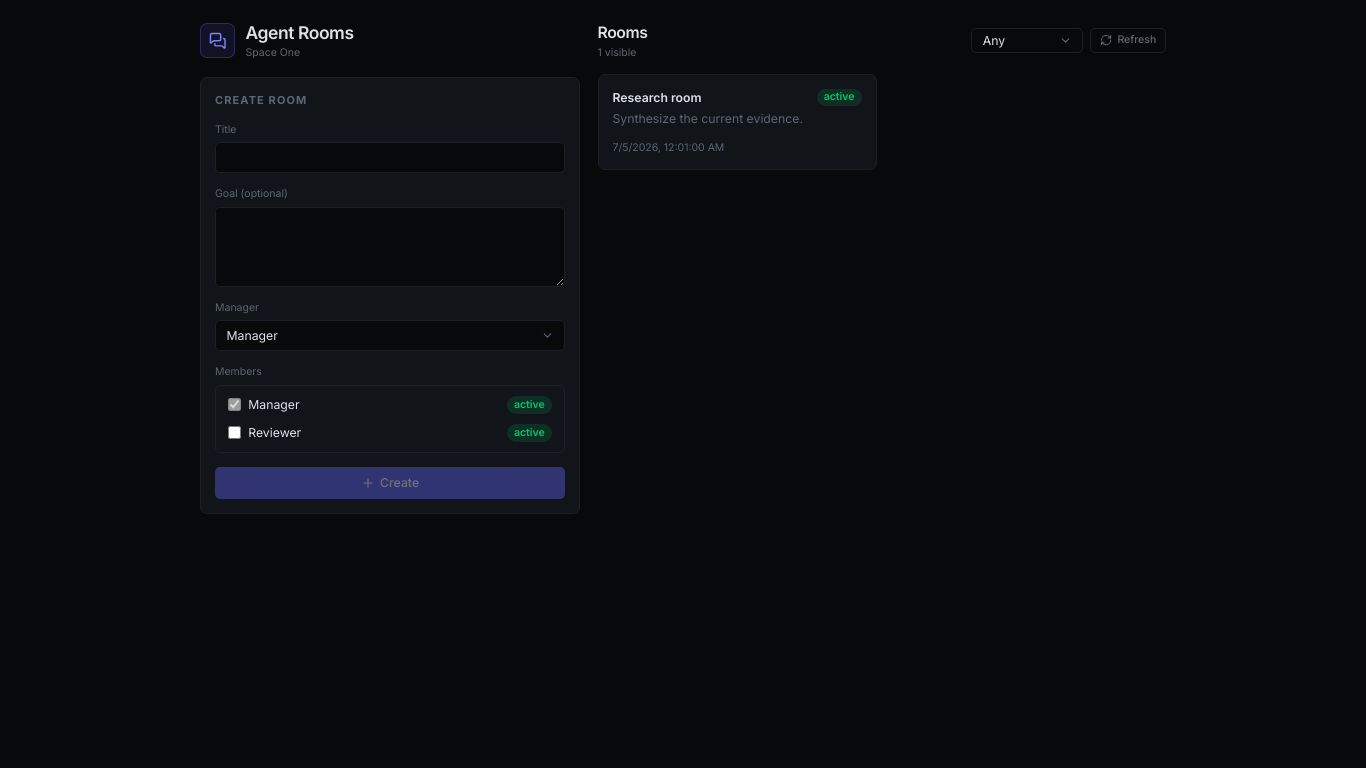
AgentGroupsPage › renders markdown in agent chat replies
Click the button "Research room" at (737, 122), box x1=598 y1=74 x2=876 y2=170
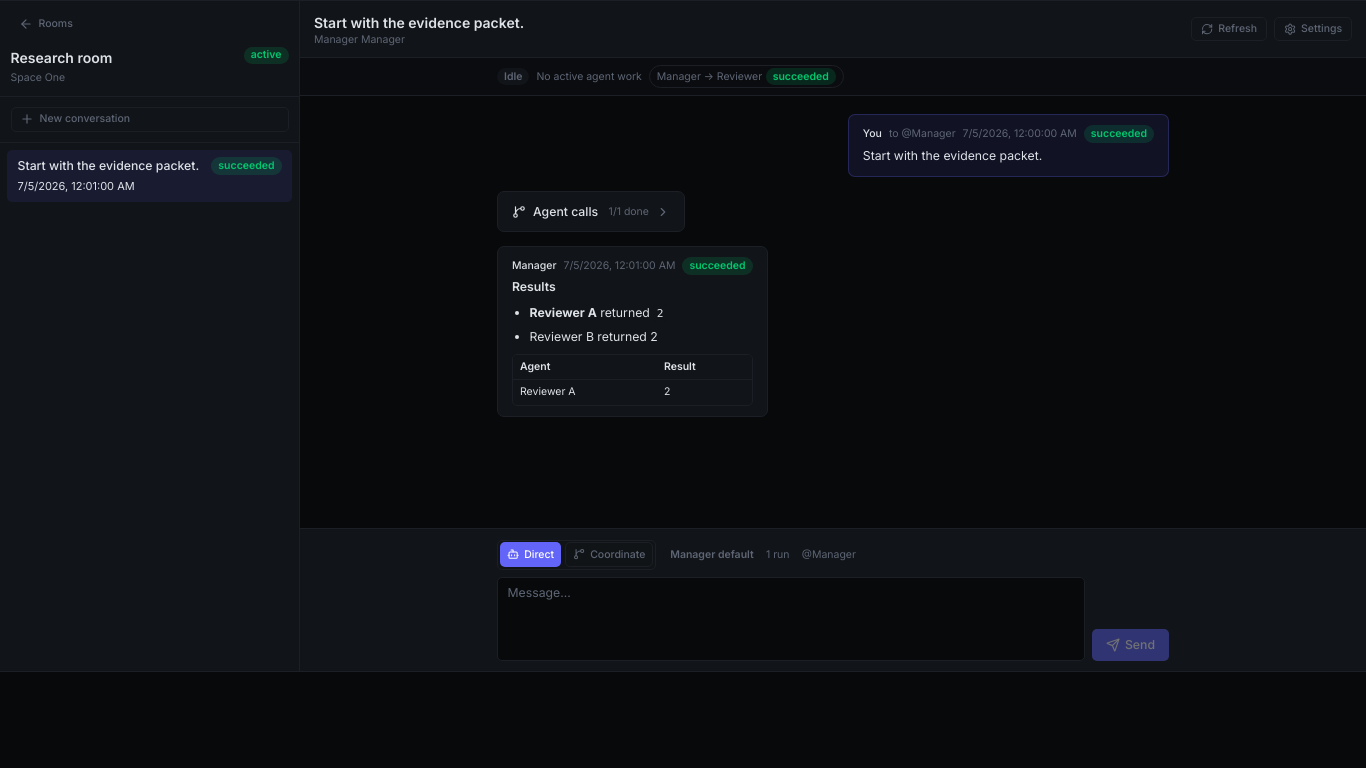
Check: the heading "Results" is shown, box x1=512 y1=279 x2=556 y2=294
Check: the table is shown, box x1=513 y1=355 x2=752 y2=405
